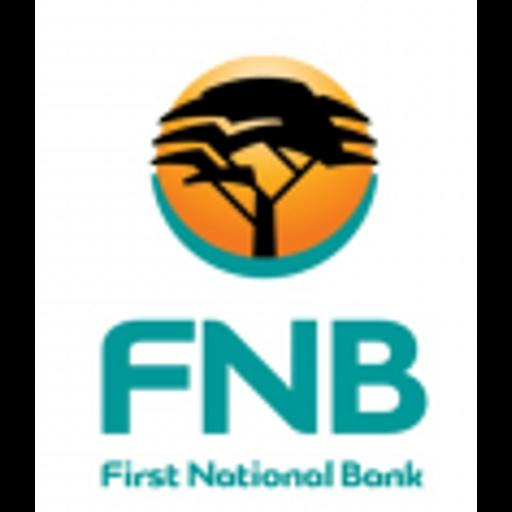First National Bank SA: (35, 0, 477, 512)
